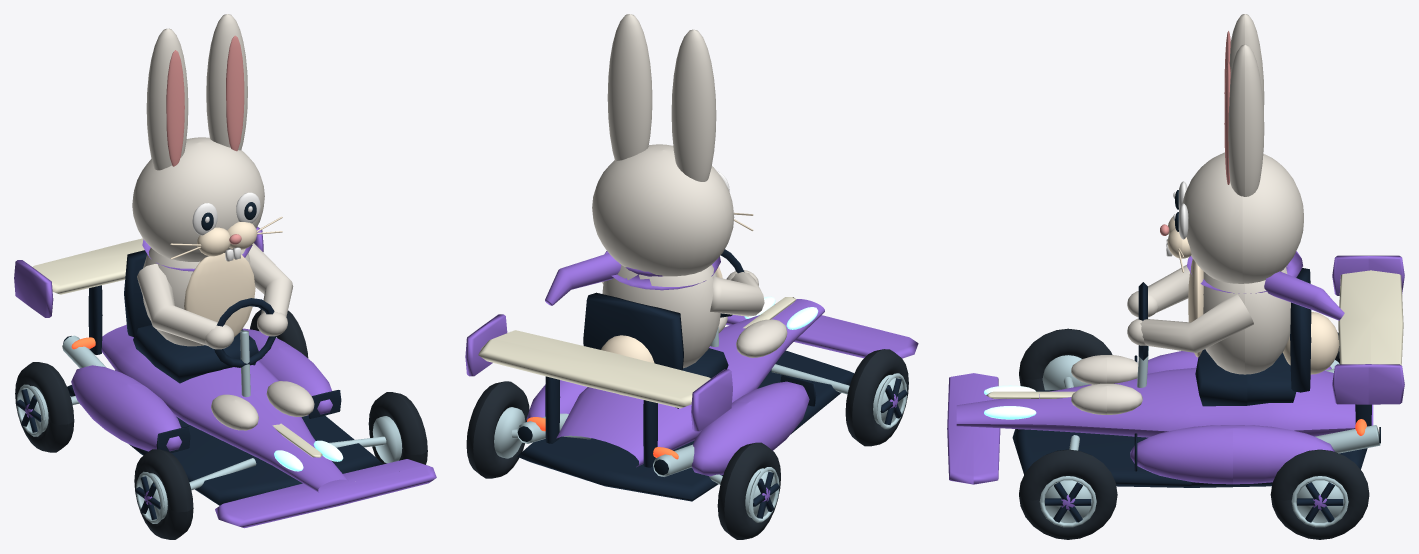
The model's file is kart_sora.glb.
The picture shows the model from 3 angles, left to right: view 1: azimuth 30°, elevation 25°; view 2: azimuth 150°, elevation 25°; view 3: azimuth 270°, elevation 25°; orthographic projection. The views are drawn at different scales.
Parts seen in each view (by area): view 1: chassis_enamel_rabbit, driver_fur, chassis_graphite, driver_muzzle_belly, chassis_pearl_ivory, driver_ear_nose, wheel_rl_spin_rubber, wheel_fl_spin_rubber, wheel_fr_spin_rubber, chassis_brushed_alloy, driver_eye_glint, wheel_fr_spin_brushed_alloy (+6 smaller); view 2: driver_fur, chassis_enamel_rabbit, chassis_graphite, chassis_pearl_ivory, wheel_rr_spin_rubber, wheel_rl_spin_rubber, wheel_fl_spin_rubber, driver_enamel_rabbit, chassis_brushed_alloy, wheel_rr_spin_brushed_alloy, driver_muzzle_belly, wheel_rl_spin_brushed_alloy (+4 smaller); view 3: driver_fur, chassis_enamel_rabbit, chassis_graphite, chassis_pearl_ivory, wheel_fr_spin_rubber, wheel_rr_spin_rubber, driver_muzzle_belly, wheel_fl_spin_rubber, driver_enamel_rabbit, chassis_brushed_alloy, wheel_rr_spin_brushed_alloy, wheel_fr_spin_brushed_alloy (+6 smaller).
Part boxes in pixels (bbox=[...]): chassis_enamel_rabbit: bbox=[14, 226, 436, 528]; driver_fur: bbox=[132, 14, 314, 430]; chassis_graphite: bbox=[67, 250, 382, 505]; driver_muzzle_belly: bbox=[170, 216, 282, 336]; chassis_pearl_ivory: bbox=[32, 238, 322, 457]; driver_ear_nose: bbox=[166, 35, 244, 244]; wheel_rl_spin_rubber: bbox=[15, 362, 74, 452]; wheel_fl_spin_rubber: bbox=[134, 449, 193, 539]; wheel_fr_spin_rubber: bbox=[368, 392, 427, 464]; chassis_brushed_alloy: bbox=[62, 330, 386, 490]; driver_eye_glint: bbox=[192, 192, 260, 261]; wheel_fr_spin_brushed_alloy: bbox=[372, 416, 402, 463]; driver_fur: bbox=[592, 14, 787, 368]; chassis_enamel_rabbit: bbox=[465, 299, 918, 476]; chassis_graphite: bbox=[517, 249, 854, 501]; chassis_pearl_ivory: bbox=[478, 297, 795, 408]; wheel_rr_spin_rubber: bbox=[466, 381, 529, 478]; wheel_rl_spin_rubber: bbox=[717, 442, 780, 539]; wheel_fl_spin_rubber: bbox=[845, 349, 908, 446]; driver_enamel_rabbit: bbox=[545, 251, 720, 305]; chassis_brushed_alloy: bbox=[511, 327, 849, 484]; wheel_rr_spin_brushed_alloy: bbox=[494, 407, 525, 458]; driver_muzzle_belly: bbox=[601, 212, 753, 395]; wheel_rl_spin_brushed_alloy: bbox=[745, 467, 779, 522]; driver_fur: bbox=[1071, 14, 1303, 414]; chassis_enamel_rabbit: bbox=[947, 255, 1404, 484]; chassis_graphite: bbox=[1012, 268, 1371, 487]; chassis_pearl_ivory: bbox=[986, 270, 1403, 398]; wheel_fr_spin_rubber: bbox=[1019, 449, 1117, 539]; wheel_rr_spin_rubber: bbox=[1270, 449, 1369, 539]; driver_muzzle_belly: bbox=[1167, 214, 1339, 374]; wheel_fl_spin_rubber: bbox=[1019, 328, 1112, 390]; driver_enamel_rabbit: bbox=[1187, 251, 1344, 320]; chassis_brushed_alloy: bbox=[1063, 346, 1380, 453]; wheel_rr_spin_brushed_alloy: bbox=[1291, 476, 1348, 527]; wheel_fr_spin_brushed_alloy: bbox=[1039, 476, 1096, 527].
Bounding box in the file's own units: 1.36 × 2.05 × 1.89.
